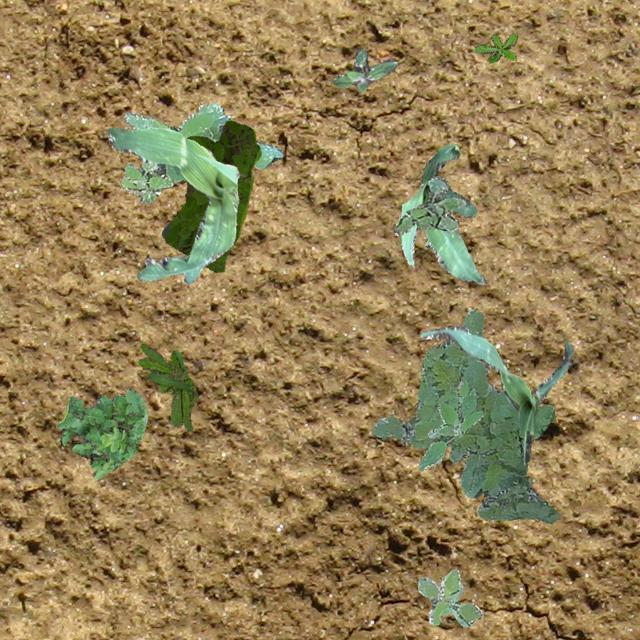crop: (419, 324, 572, 464), (105, 125, 238, 284), (398, 142, 486, 284)
weed: (372, 308, 558, 522), (120, 102, 282, 202), (160, 120, 260, 272), (56, 388, 146, 478), (418, 380, 482, 470), (136, 342, 198, 430), (392, 174, 464, 234), (418, 568, 482, 626), (330, 46, 396, 92), (472, 32, 516, 62), (423, 237, 431, 250)
